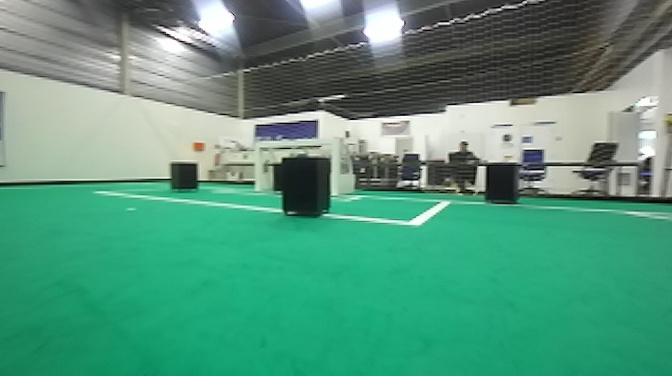goalpost: (323, 144, 340, 199), (252, 140, 261, 192)
